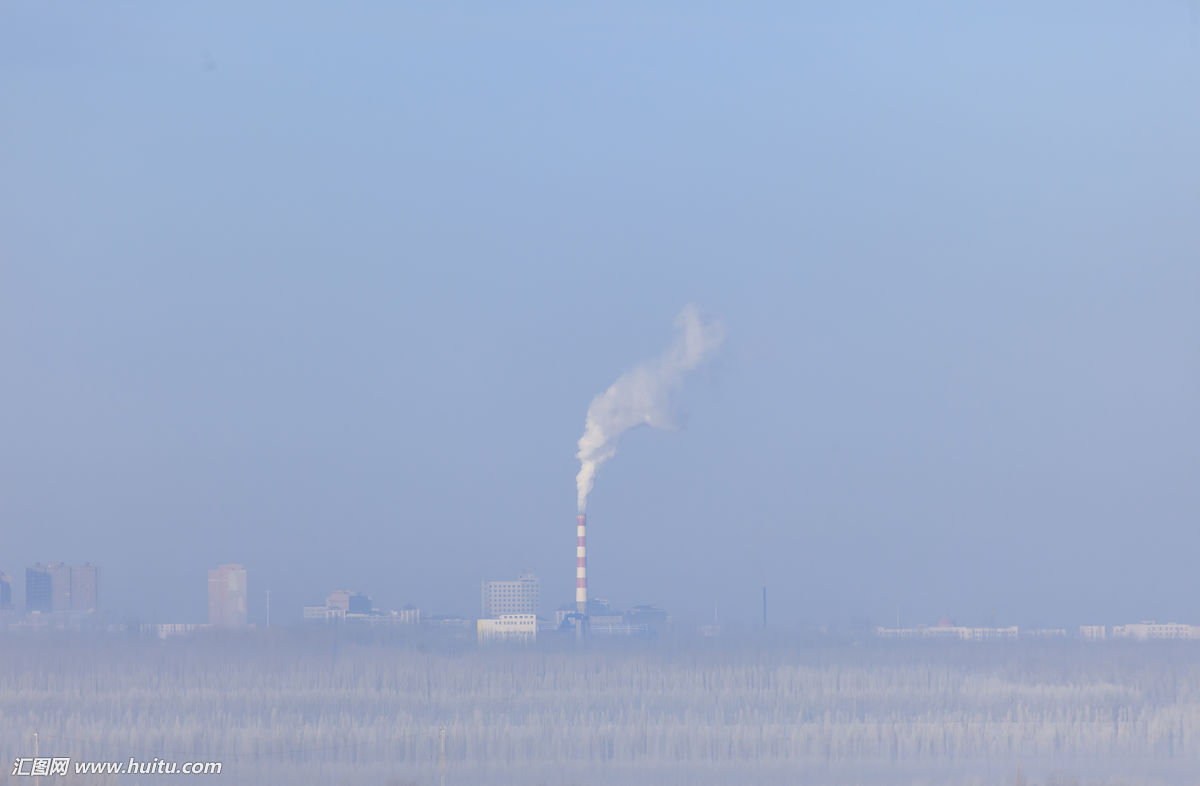dust: (560, 360, 675, 512)
